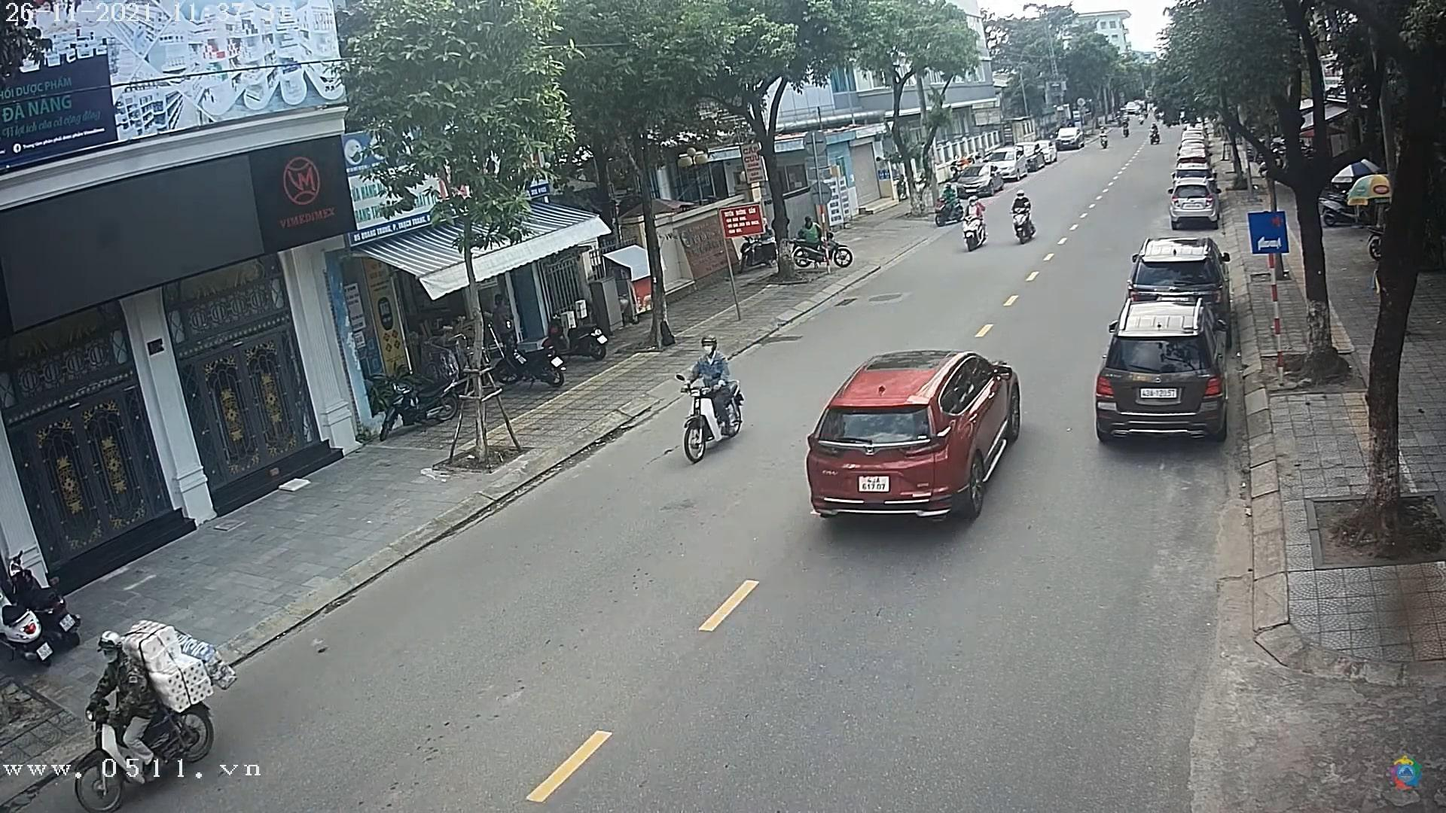car: (799, 347, 1021, 518), (1097, 292, 1230, 443), (1131, 236, 1231, 304), (1166, 185, 1218, 228), (955, 160, 1010, 196), (1057, 125, 1086, 150)
motorbike: (64, 695, 230, 812), (679, 375, 748, 461), (959, 215, 990, 257), (1014, 204, 1039, 246)
